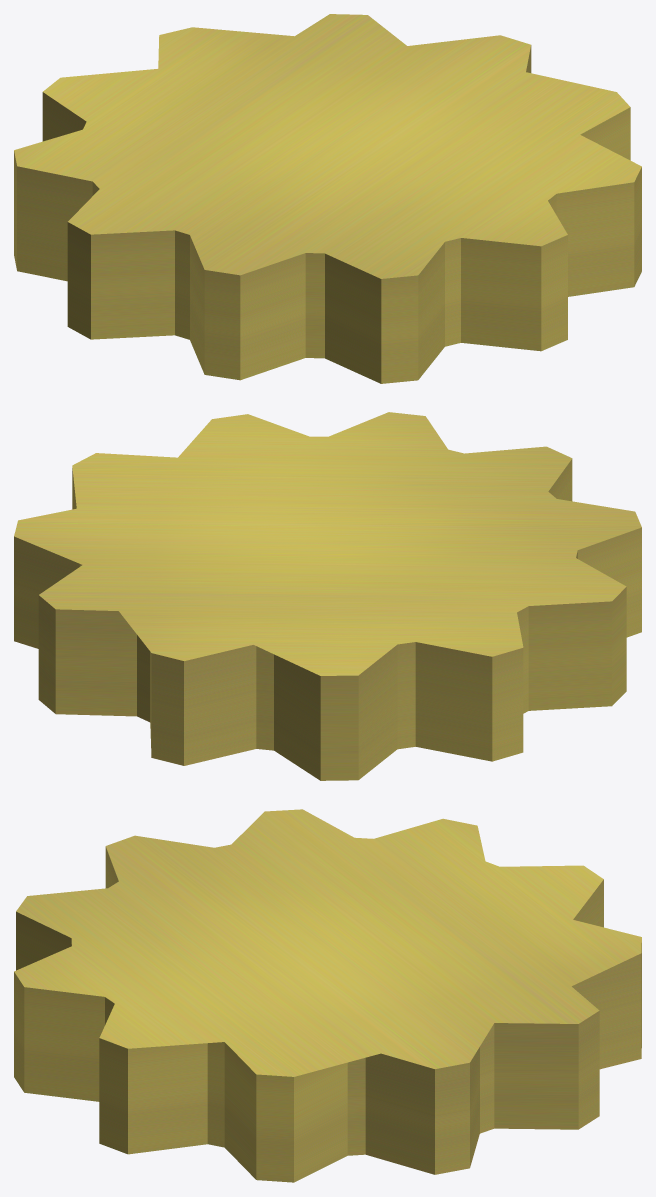
The model's file is CogInset011.fbx.
3 renders of one model, top to bottom at view 1: azimuth 30°, elevation 25°; view 2: azimuth 150°, elevation 25°; view 3: azimuth 270°, elevation 25°, orthographic.
Visible parts, largest first — view 1: CogInset011; view 2: CogInset011; view 3: CogInset011.
Part boxes in pixels (bbox=[...]): CogInset011: bbox=[14, 14, 641, 383]; CogInset011: bbox=[14, 412, 641, 780]; CogInset011: bbox=[14, 809, 641, 1182].
Size of the model in its own units: 107 by 19.69 by 106.
